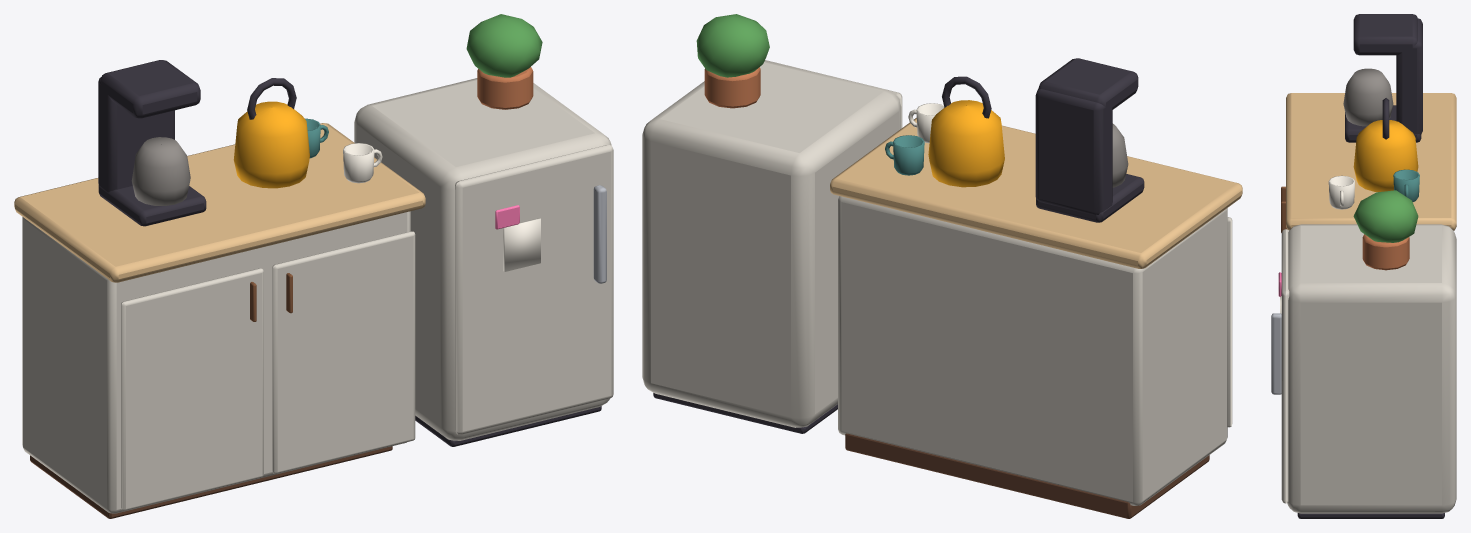
Rendered from kitchenette.glb.
3 renders of one model, left to right at view 1: azimuth 30°, elevation 25°; view 2: azimuth 150°, elevation 25°; view 3: azimuth 270°, elevation 25°, orthographic. The views are drawn at different scales.
Parts seen in each view (by area): view 1: kitchenette; view 2: kitchenette; view 3: kitchenette.
Boxes of the visible parts, x1=… form: kitchenette: x1=14, y1=14, x2=613, y2=518; kitchenette: x1=642, y1=14, x2=1242, y2=518; kitchenette: x1=1271, y1=14, x2=1456, y2=518.
Size of the model in its own units: 1.67 by 1.24 by 0.63.
